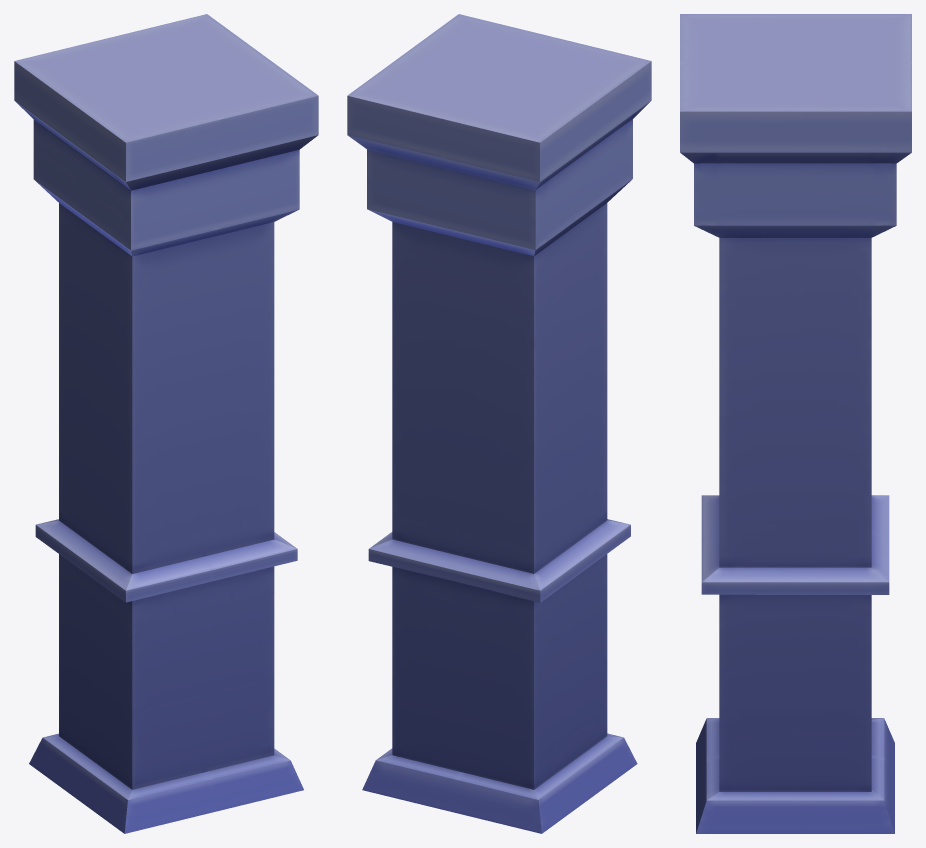
Rendered from column_2.fbx.
3 views of the same model, side by side, from view 1: azimuth 30°, elevation 25°; view 2: azimuth 150°, elevation 25°; view 3: azimuth 270°, elevation 25° (orthographic). The views are drawn at different scales.
Visible parts, largest first — view 1: column; view 2: column; view 3: column.
Boxes of the visible parts, x1,y1,x2,y2 form: column: (14,14,318,833); column: (347,14,651,833); column: (680,14,911,833).
Bounding box in the file's own units: 79.97 × 277 × 80.16.
